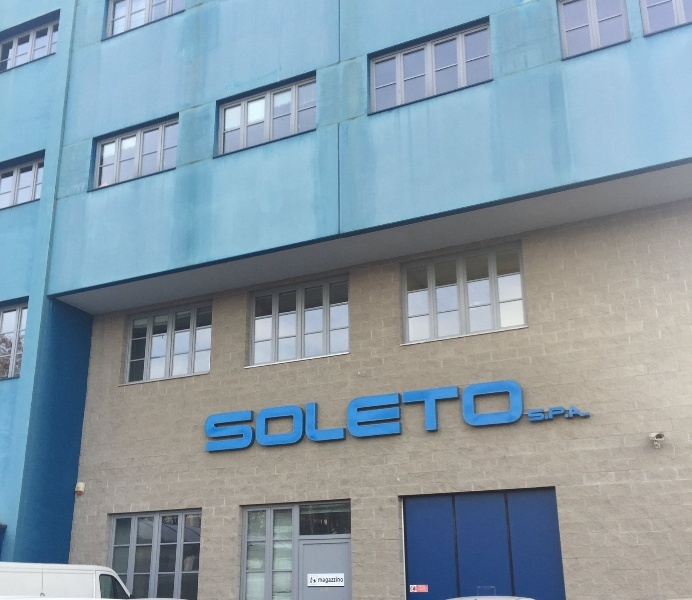text: (209, 379, 224, 454), (225, 379, 240, 454), (241, 379, 256, 454), (257, 379, 272, 454), (273, 379, 288, 454), (289, 379, 304, 454), (305, 379, 320, 454), (321, 379, 336, 454), (337, 379, 352, 454), (353, 379, 368, 454), (369, 379, 384, 454), (385, 379, 400, 454), (401, 379, 416, 454), (417, 379, 432, 454), (433, 379, 448, 454), (449, 379, 464, 454), (465, 379, 480, 454), (481, 379, 496, 454), (497, 379, 512, 454), (513, 379, 526, 454), (204, 379, 208, 454), (529, 404, 544, 423), (545, 404, 560, 423), (561, 404, 576, 423), (577, 404, 591, 423), (321, 577, 336, 584), (417, 586, 432, 593), (337, 577, 343, 584), (527, 404, 528, 423), (319, 577, 320, 584)
